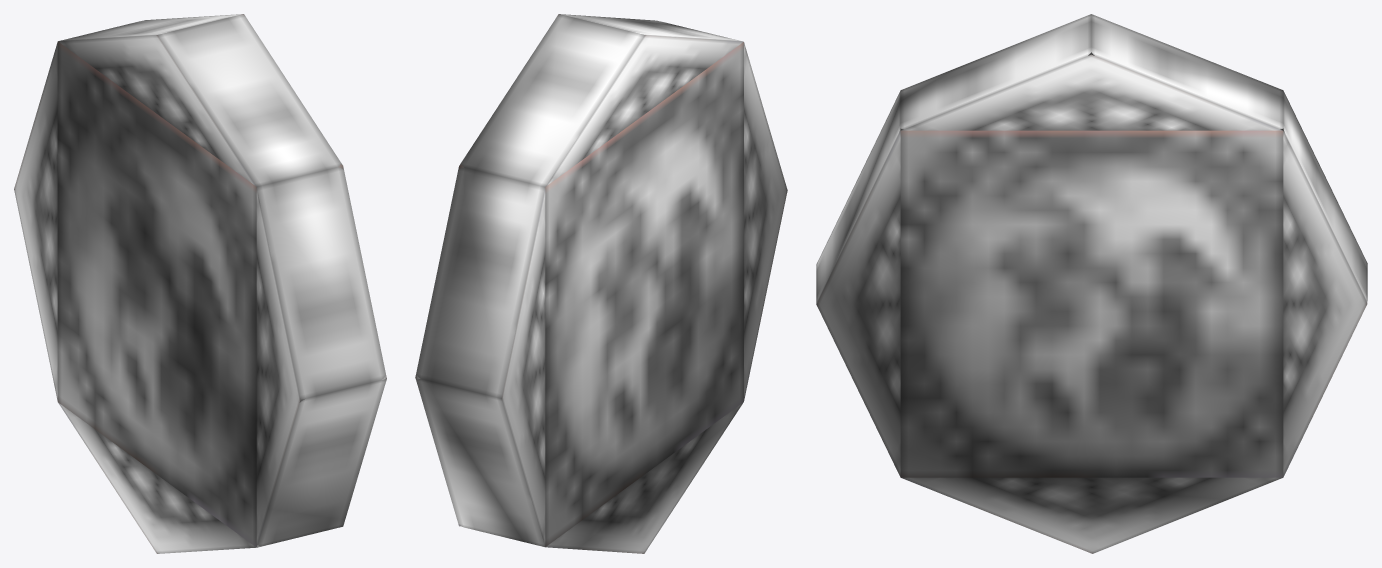
The picture shows the model from 3 angles, left to right: view 1: azimuth 30°, elevation 25°; view 2: azimuth 150°, elevation 25°; view 3: azimuth 270°, elevation 25°; orthographic projection. The views are drawn at different scales.
Parts seen in each view (by area): view 1: T1L7M003_18; view 2: T1L7M003_18; view 3: T1L7M003_18.
Part boxes in pixels (x1,y1,x2,y2): T1L7M003_18: (14, 14, 386, 553); T1L7M003_18: (415, 14, 787, 553); T1L7M003_18: (816, 14, 1367, 553).
Bounding box in the file's own units: 0.0791 × 0.4541 × 0.4541.
